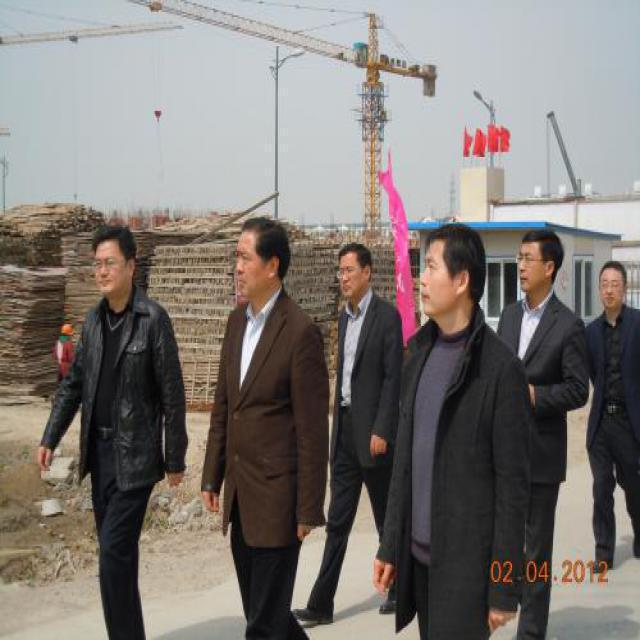head: (417, 213, 482, 329), (233, 218, 293, 303), (90, 221, 141, 305), (516, 221, 567, 296), (335, 239, 374, 302), (594, 256, 631, 319)
person: (29, 220, 196, 635), (386, 210, 527, 635), (190, 200, 332, 622), (485, 220, 585, 633), (303, 227, 401, 640), (583, 245, 640, 594)
